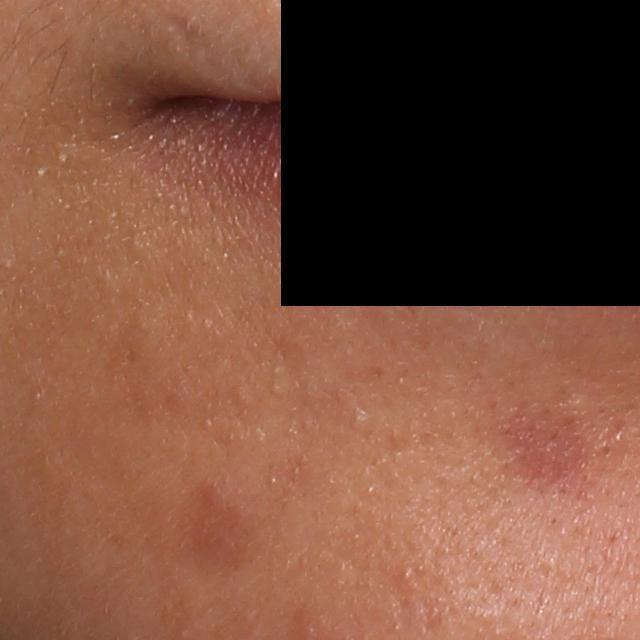atrophic_scar: (156, 10, 228, 73)
comedo: (349, 408, 370, 428)
